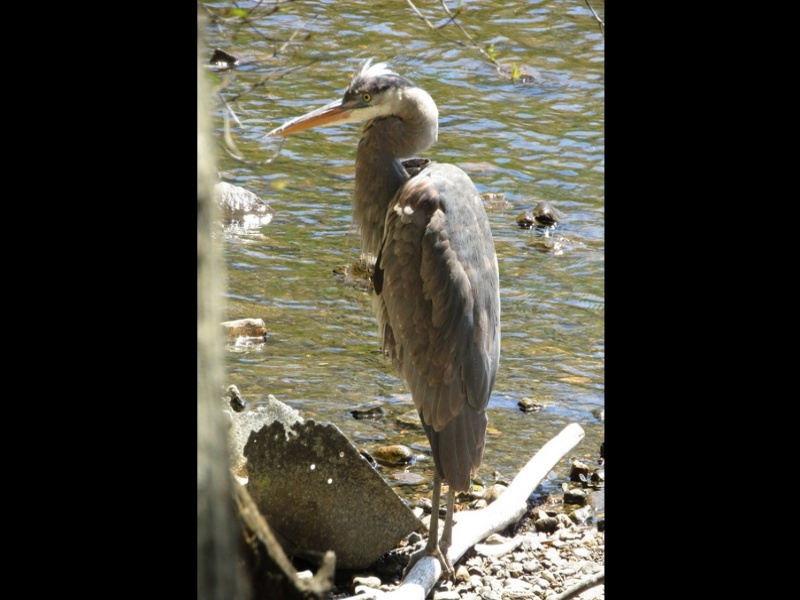heron: (269, 62, 499, 589)
